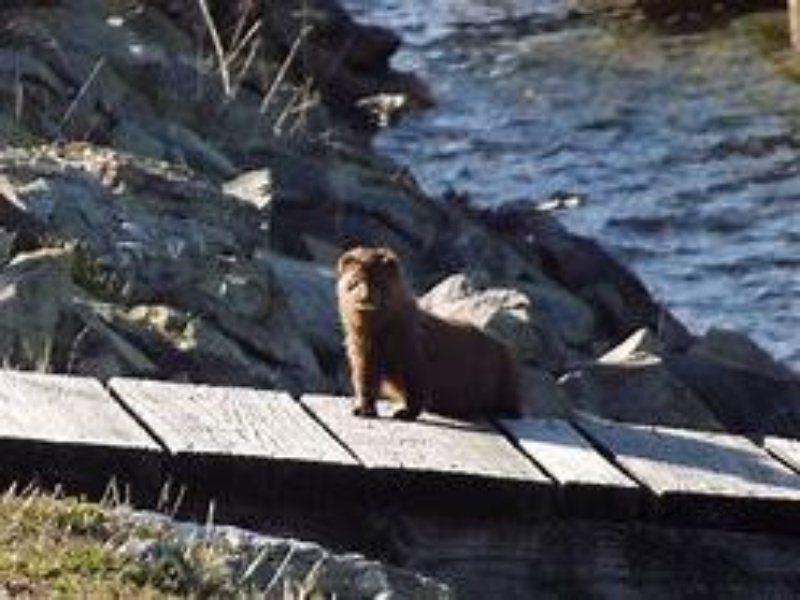minkish: (332, 246, 527, 423)
